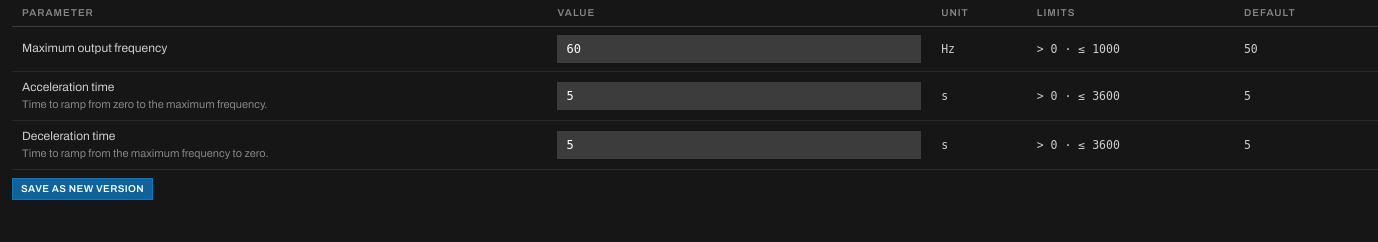
parameters form › shows each parameter with its unit, limits and default, and submits the values
Expected: the number field labelled "Maximum output frequency" holds "60", [558,35,921,63]
Expected: the number field labelled "Acceleration time" holds "5", [558,82,921,110]
Replace the text in the number field labelled "Deceleration time" with "12": (739, 145) [558,131,921,159]
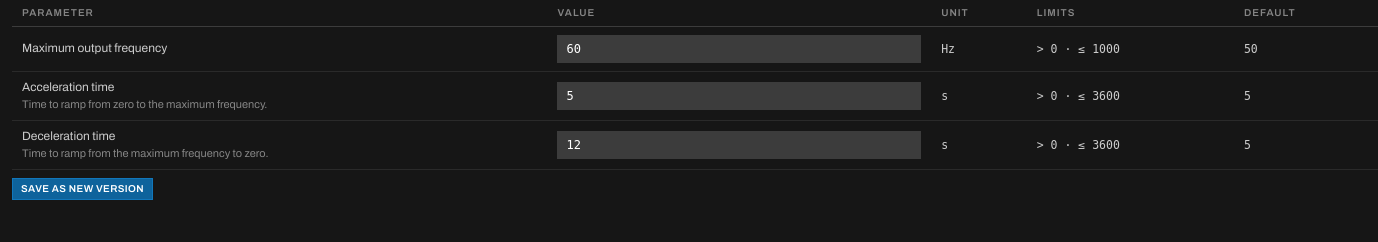
Click the button "Save as new version": (82, 189) [12,178,153,200]
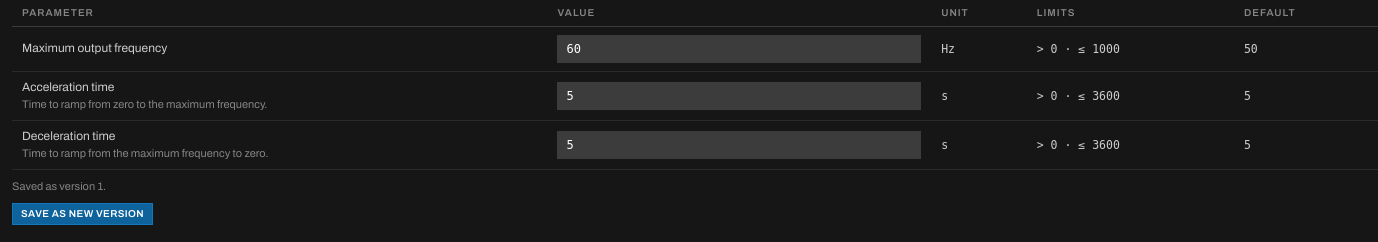
Expected: the message reads "Saved as version 1.", [12,180,106,192]
